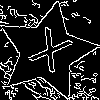X: (21, 26, 74, 83)
